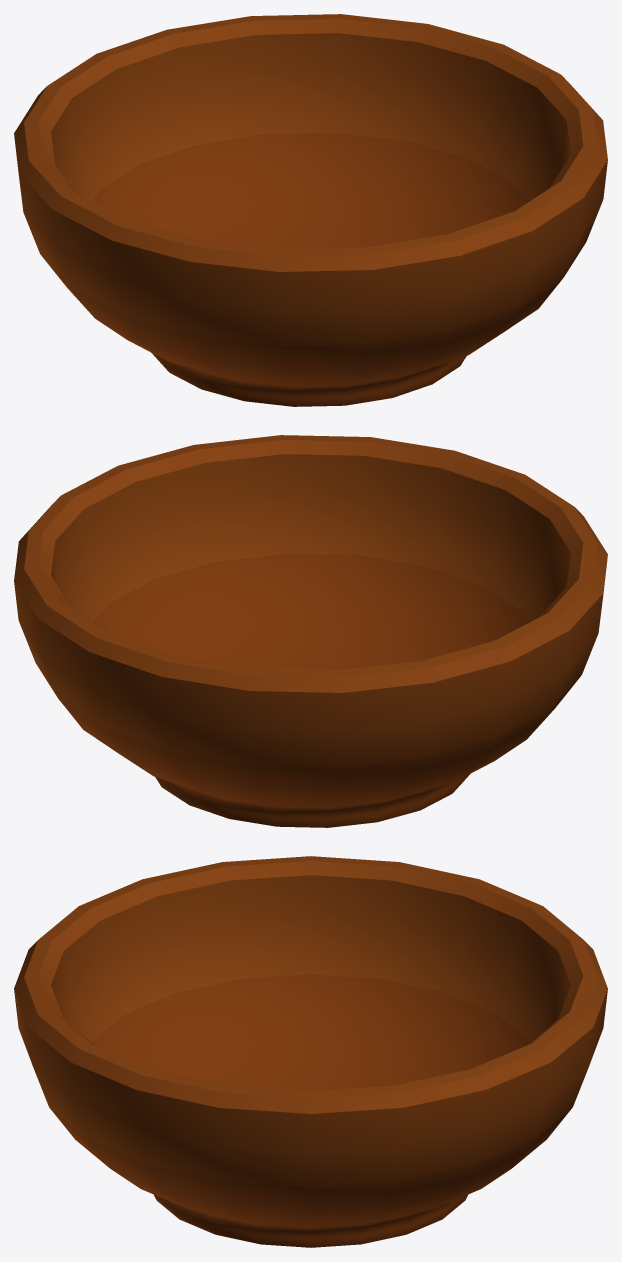
Rendered from Bowl.glb.
The picture shows the model from 3 angles, top to bottom: view 1: azimuth 30°, elevation 25°; view 2: azimuth 150°, elevation 25°; view 3: azimuth 270°, elevation 25°; orthographic projection.
Parts seen in each view (by area): view 1: Bowl; view 2: Bowl; view 3: Bowl.
Boxes of the visible parts, <box> form: Bowl: <box>14,14,607,406</box>; Bowl: <box>14,435,607,827</box>; Bowl: <box>14,856,607,1247</box>.
Size of the model in its own units: 0.2028 by 0.0776 by 0.2028.
Materials: 1 (1 with a texture image).
